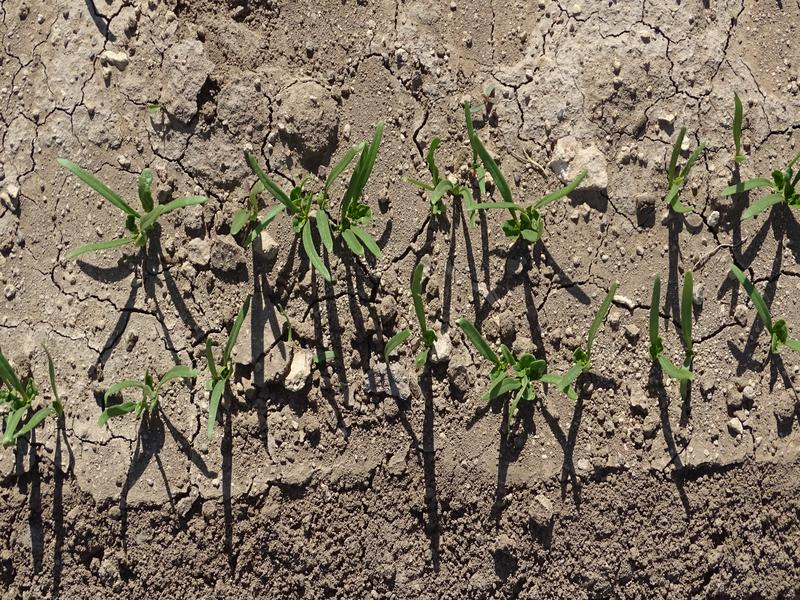Espinaca: (455, 282, 623, 412), (233, 135, 388, 273), (426, 109, 579, 246), (664, 108, 800, 222), (57, 166, 204, 256), (205, 293, 255, 441), (103, 360, 200, 427), (726, 265, 797, 354), (649, 269, 701, 387), (1, 353, 55, 449), (407, 270, 440, 369)
